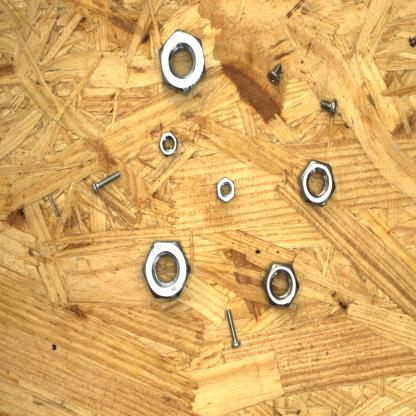screw: (90, 169, 122, 196), (224, 308, 243, 350), (318, 97, 340, 118), (268, 62, 282, 84)
